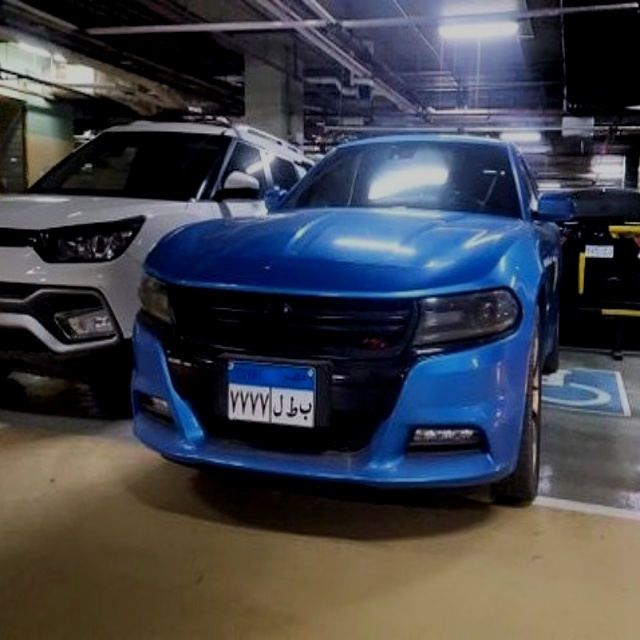License Plate: (225, 356, 317, 432)
